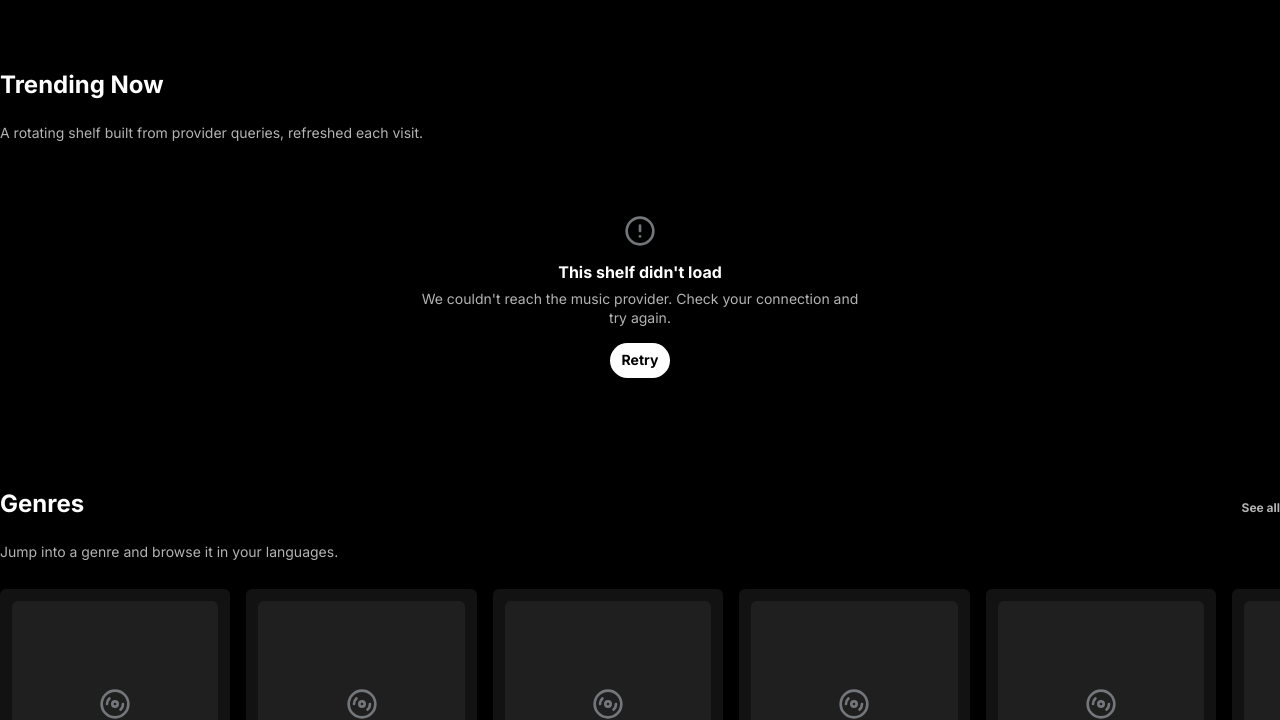
Test: HomeView: one failing shelf › retries only the failed shelf
(page scrolled)
Expected: the message is shown, 422,215 -> 858,378
Click the button "Retry". click: {"x": 640, "y": 360}
box: 610,343 -> 670,378
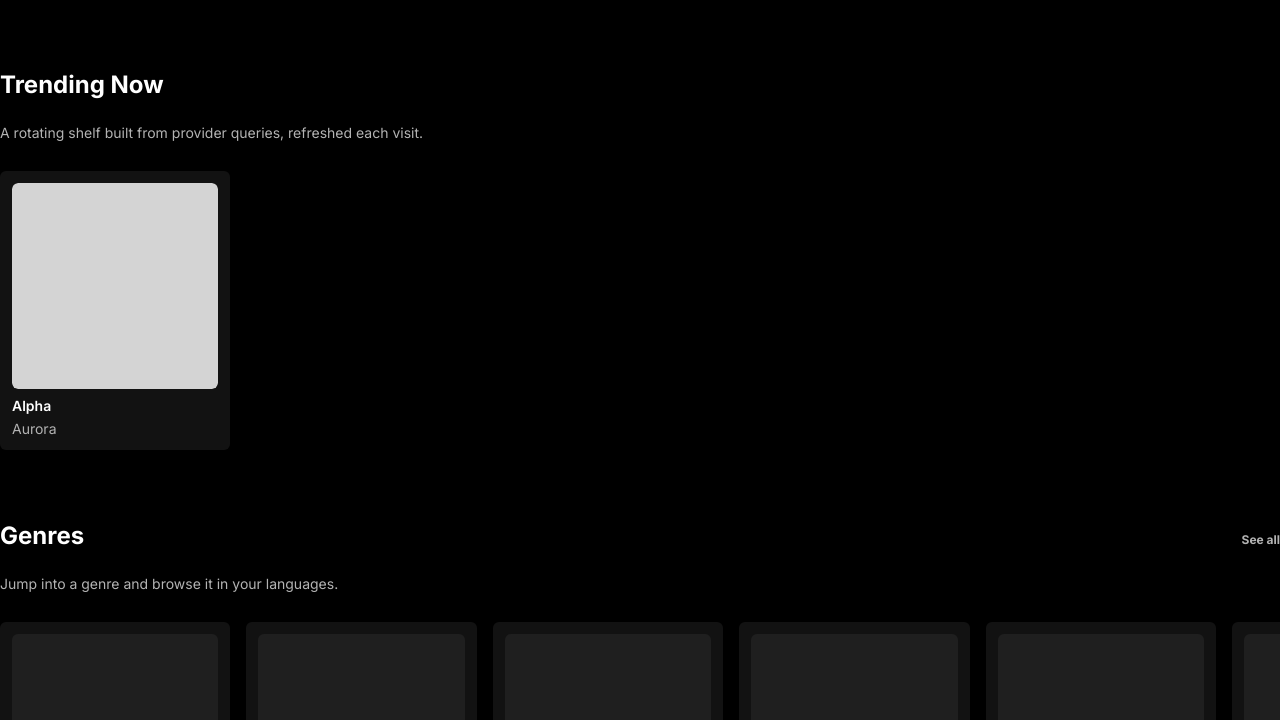
Now the text "Alpha" is shown, box 12,397 -> 56,416
Now the message is gone
